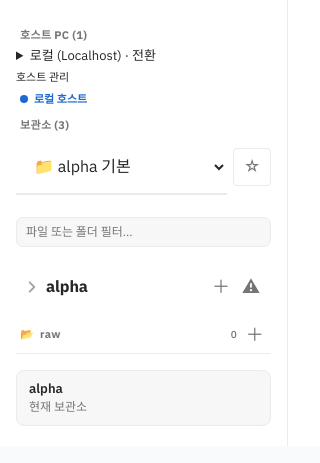
it: favorite toggle — aria-pressed와 glyph로 상태를 노출한다 › on/off를 색이 아니라 glyph로도 구분한다 (ON=★, OFF=☆)
The image size is (320, 463).
Expected: the button "즐겨찾기" does not show "★"
Click the button named "즐겨찾기": point(252, 167) [233,148,271,186]
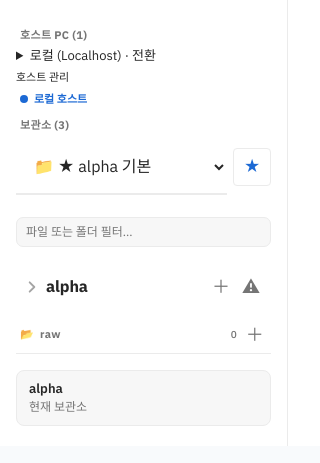
Expected: the button named "즐겨찾기" reads "★", [233,148,271,186]
Expected: the button "즐겨찾기" no longer shows "☆"
